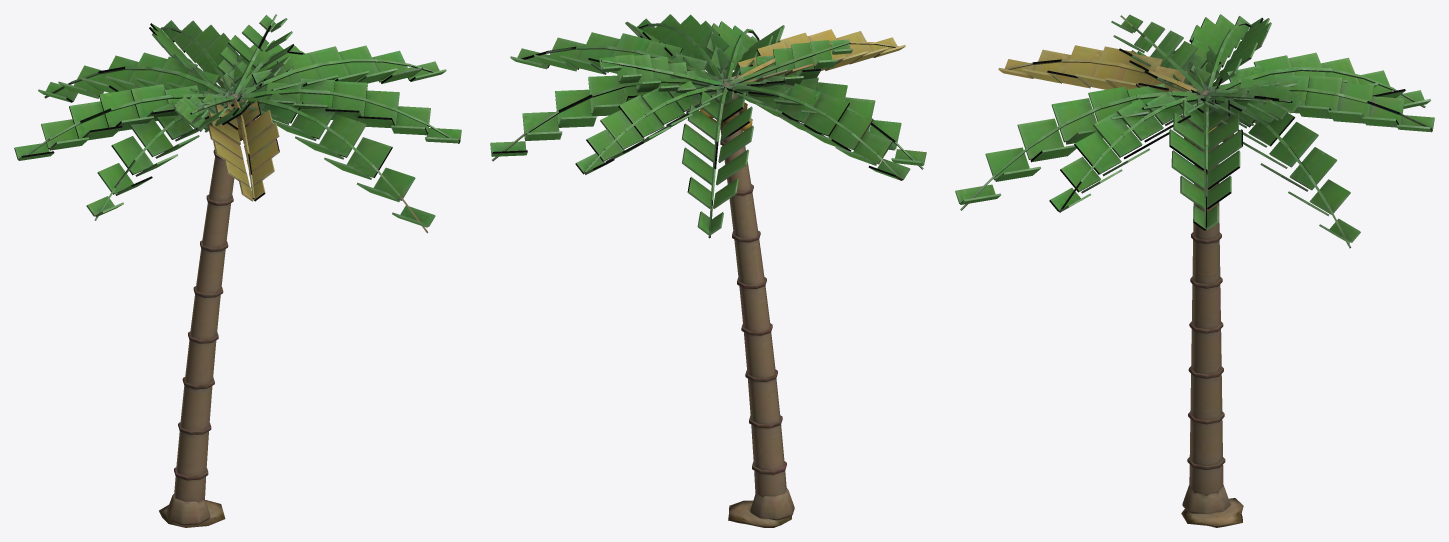
The model's file is palm_b.glb.
3 renders of one model, left to right at view 1: azimuth 30°, elevation 25°; view 2: azimuth 150°, elevation 25°; view 3: azimuth 270°, elevation 25°, orthographic. The views are drawn at different scales.
Visible parts, largest first — view 1: palm_b; view 2: palm_b; view 3: palm_b.
Boxes of the visible parts, <box> form: palm_b: <box>14,14,461,527</box>; palm_b: <box>490,14,926,527</box>; palm_b: <box>955,14,1434,527</box>.
Size of the model in its own units: 4.87 by 5.13 by 4.7.
1 material, 1 textured.
